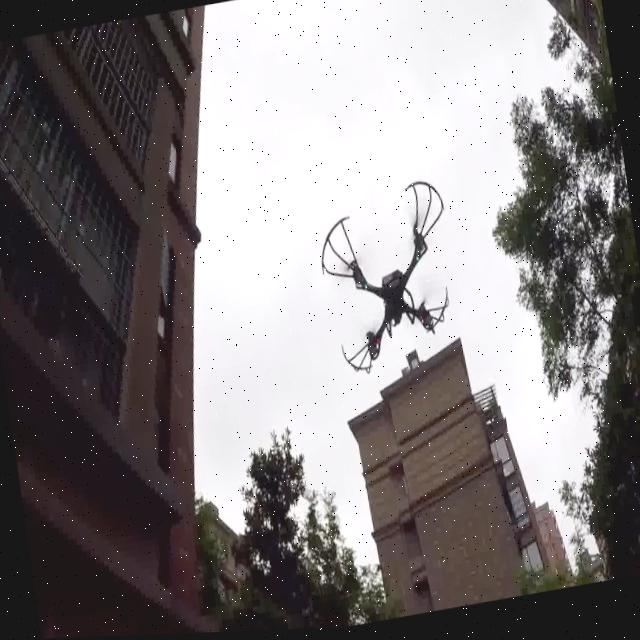drone: (308, 170, 473, 401)
